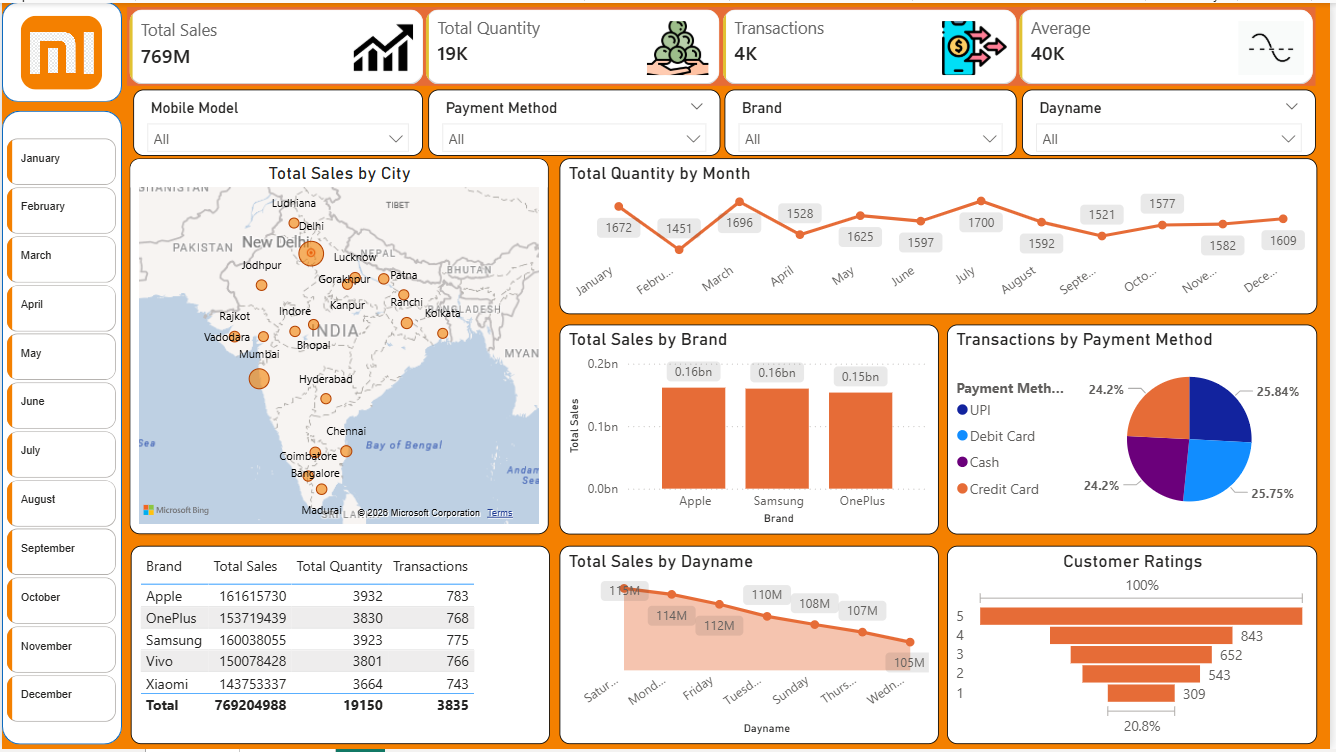

The dashboard page shown, as its layout file describes it:
{"tool":"powerbi","page":{"name":"Page 1","canvas":[1280,720],"ordinal":0},"visuals":[{"type":"shape","box":[0,0,115.7,96.4],"z":0},{"type":"image","box":[18.1,13.3,78.3,71.1],"z":1000},{"type":"shape","box":[0,104.8,115.7,610.8],"z":2000},{"type":"advancedSlicerVisual","fields":{"Values":["Sales_Data.Date.Variation.Date Hierarchy.Month"]},"box":[0,126.5,115.7,572.3],"z":3000},{"type":"cardVisual","fields":{"Data":["Sales_Data.Total Sales","Sales_Data.Total Quantity","Sales_Data.Transactions","Sales_Data.Average"]},"box":[115.7,0,1156.6,86.7],"z":4000},{"type":"map","fields":{"Category":["Sales_Data.City"],"Size":["Sales_Data.Total Sales"]},"box":[122.9,150.6,403.6,362.7],"z":5000},{"type":"lineChart","fields":{"Y":["Sales_Data.Total Quantity"],"Category":["Sales_Data.Date.Variation.Date Hierarchy.Month","Sales_Data.Date.Variation.Date Hierarchy.Day"]},"box":[537.8,151.1,730,150],"z":6000},{"type":"clusteredColumnChart","fields":{"Y":["Sales_Data.Total Sales"],"Category":["Sales_Data.Brand"]},"box":[537.8,311.1,365.6,202.2],"z":7000},{"type":"pieChart","fields":{"Category":["Sales_Data.Payment Method"],"Y":["Sales_Data.Transactions"]},"box":[911.1,311.1,356.7,202.2],"z":8000},{"type":"funnel","title":"Customer Ratings","fields":{"Category":["Sales_Data.Customer Ratings"],"Y":["CountNonNull(Sales_Data.Customer Ratings)"]},"box":[911.1,524.4,356.7,191.1],"z":9000},{"type":"areaChart","fields":{"Category":["Sales_Data.Dayname"],"Y":["Sales_Data.Total Sales"]},"box":[537.8,524.4,365.6,191.1],"z":10000},{"type":"tableEx","fields":{"Values":["Sales_Data.Brand","Sales_Data.Total Sales","Sales_Data.Total Quantity","Sales_Data.Transactions"]},"box":[124.1,524.1,403.6,191.6],"z":11000},{"type":"slicer","fields":{"Values":["Sales_Data.Mobile Model"]},"box":[126.5,84.3,279.5,63.9],"z":12000},{"type":"slicer","fields":{"Values":["Sales_Data.Payment Method"]},"box":[410.8,84.3,281.9,63.9],"z":13000},{"type":"slicer","fields":{"Values":["Sales_Data.Brand"]},"box":[696.4,84.3,281.9,63.9],"z":14000},{"type":"slicer","fields":{"Values":["Sales_Data.Dayname"]},"box":[983.1,84.3,283.1,63.9],"z":15000}]}

Visuals, with their boxes in screenshot pixels (x1, y1, x2, y2), scaled from the page's 1280x720 canvas onto the 1336x752 screenshot:
shape: (0,0,121,101)
image: (19,14,101,88)
shape: (0,109,121,747)
advancedSlicerVisual - Sales_Data.Date.Variation.Date Hierarchy.Month: (0,132,121,730)
cardVisual - Sales_Data.Total Sales x Sales_Data.Total Quantity: (121,0,1328,91)
map - Sales_Data.City x Sales_Data.Total Sales: (128,157,550,536)
lineChart - Sales_Data.Total Quantity x Sales_Data.Date.Variation.Date Hierarchy.Month: (561,158,1323,314)
clusteredColumnChart - Sales_Data.Total Sales x Sales_Data.Brand: (561,325,943,536)
pieChart - Sales_Data.Payment Method x Sales_Data.Transactions: (951,325,1323,536)
"Customer Ratings" funnel: (951,548,1323,747)
areaChart - Sales_Data.Dayname x Sales_Data.Total Sales: (561,548,943,747)
tableEx - Sales_Data.Brand x Sales_Data.Total Sales: (130,547,551,748)
slicer - Sales_Data.Mobile Model: (132,88,424,155)
slicer - Sales_Data.Payment Method: (429,88,723,155)
slicer - Sales_Data.Brand: (727,88,1021,155)
slicer - Sales_Data.Dayname: (1026,88,1322,155)
